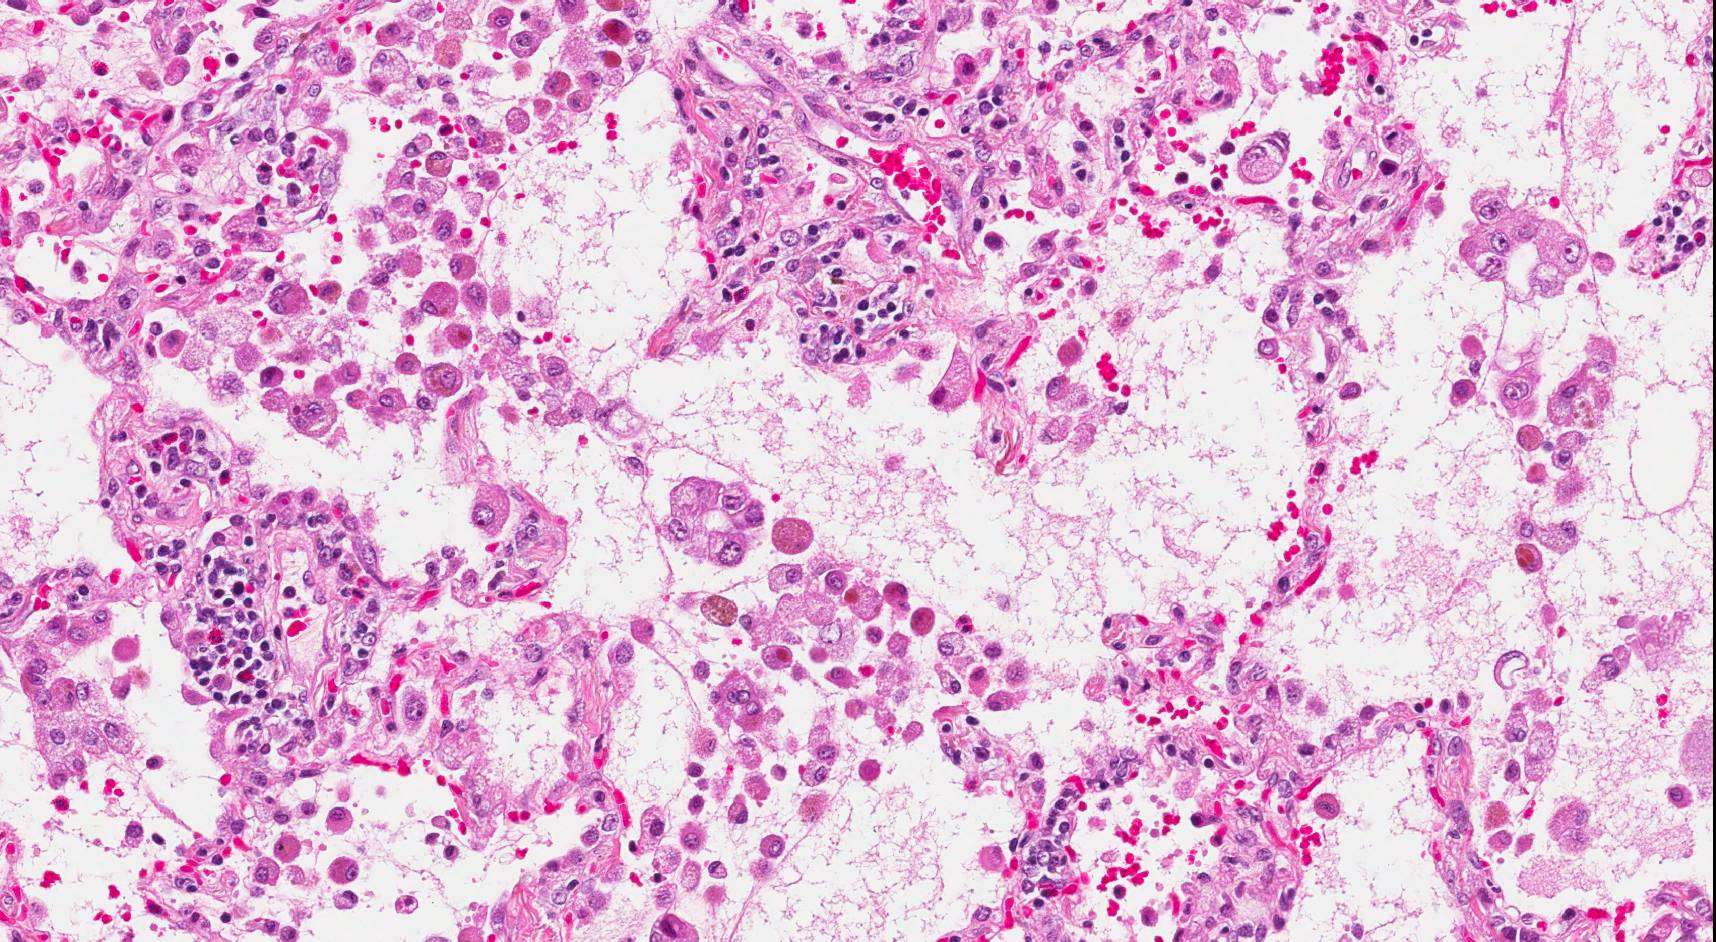stas: (1462, 187, 1590, 300), (656, 476, 769, 567), (1238, 129, 1290, 183)
